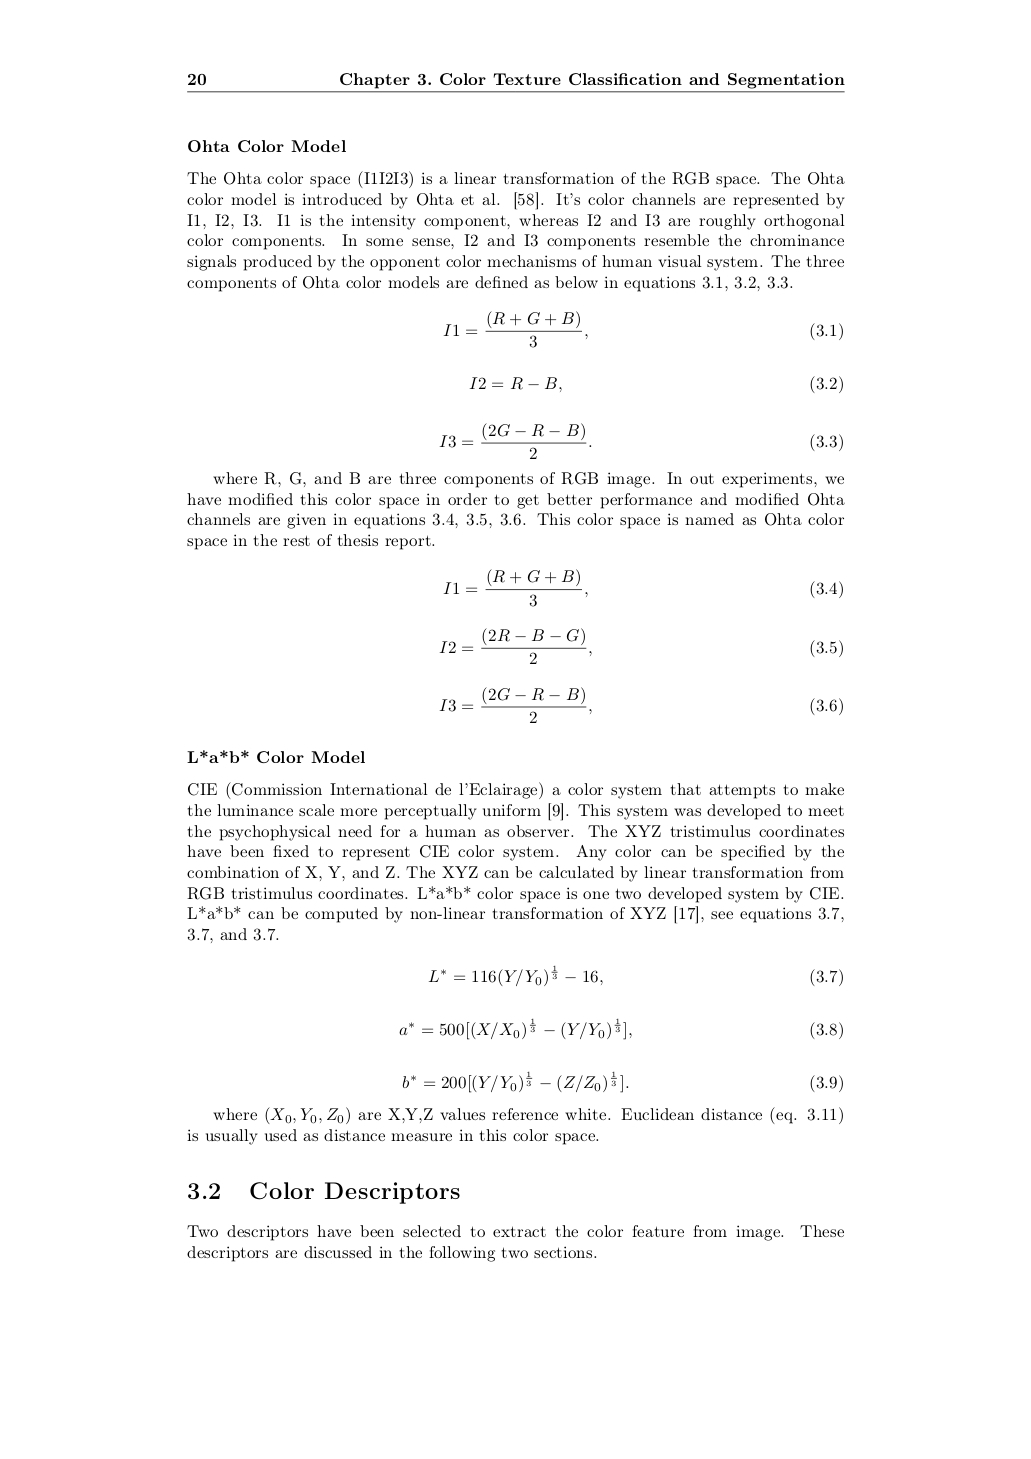formula: (443, 568, 842, 607), (443, 310, 842, 348), (439, 422, 842, 458), (439, 627, 842, 664), (439, 686, 842, 723), (402, 1070, 842, 1093), (399, 1017, 842, 1040), (428, 964, 842, 987), (469, 375, 842, 394)
